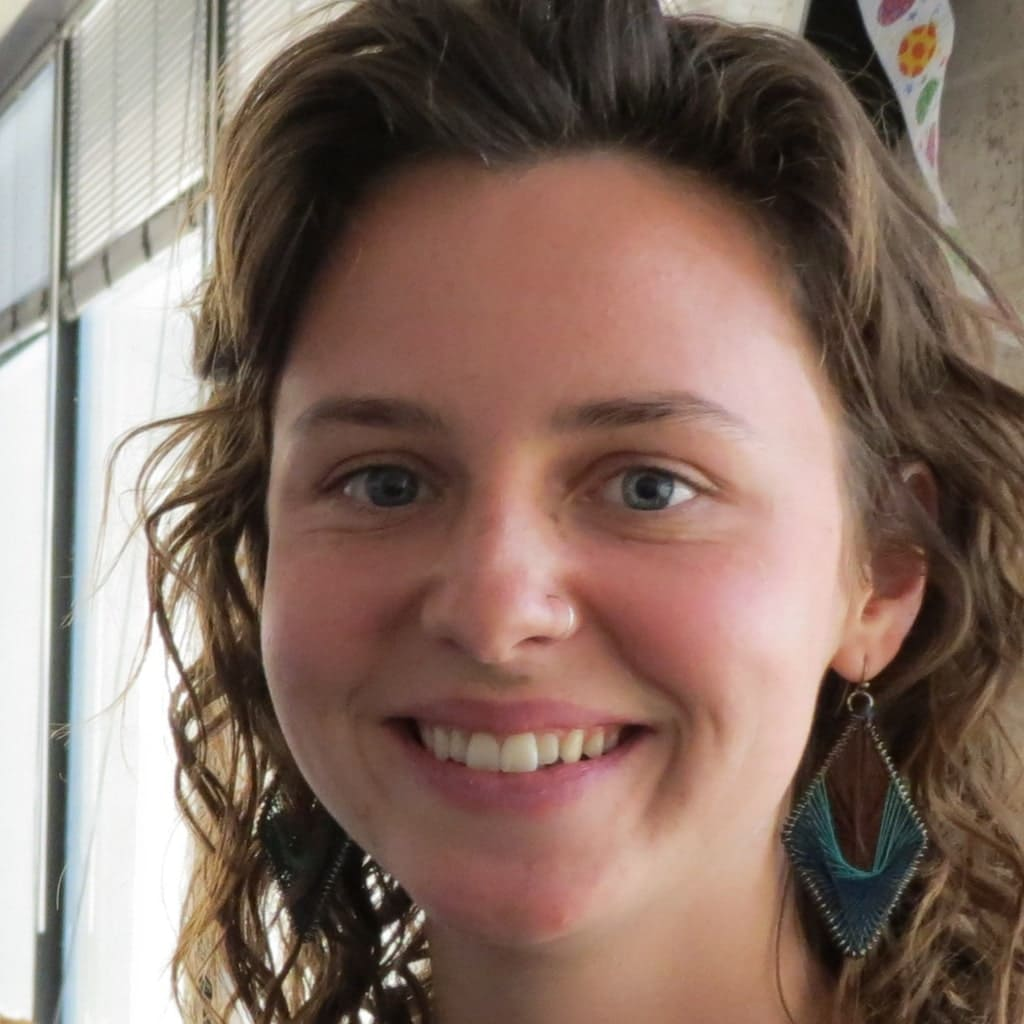without_mask: (270, 230, 800, 889)
